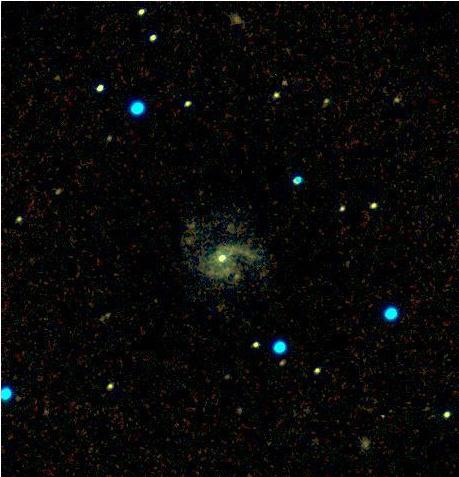star: (223, 263, 253, 293)
